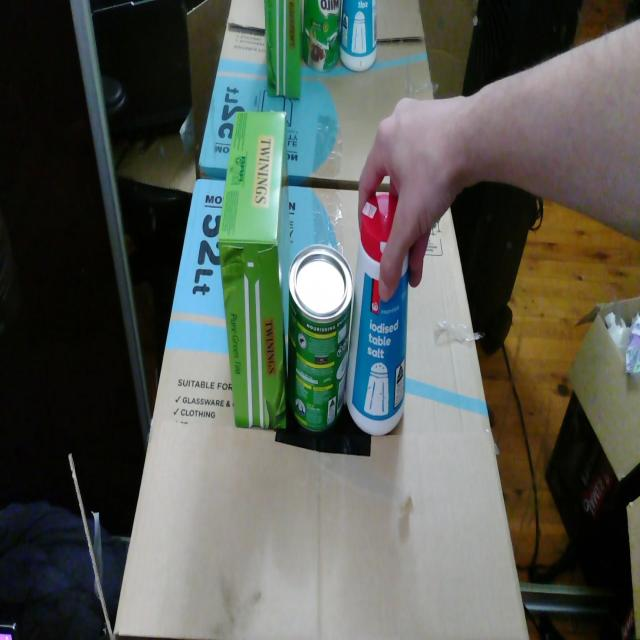nestle_milo_tin: (287, 244, 354, 432)
twinings_greentea_box: (218, 112, 290, 429)
woolworths_salt_bottle: (345, 194, 409, 436)
